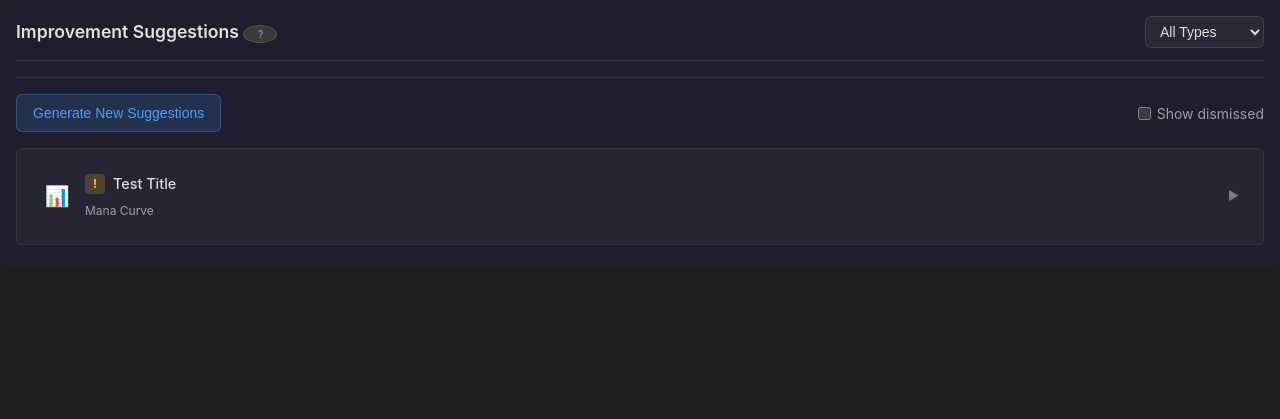
Test: ImprovementSuggestionsPanel › Expand/Collapse › should expand suggestion to show details when clicked
Check: the text "Detailed description here" is not shown
Click to expand
Click the heading "Test Title" at (145, 184), box [113,173,176,195]
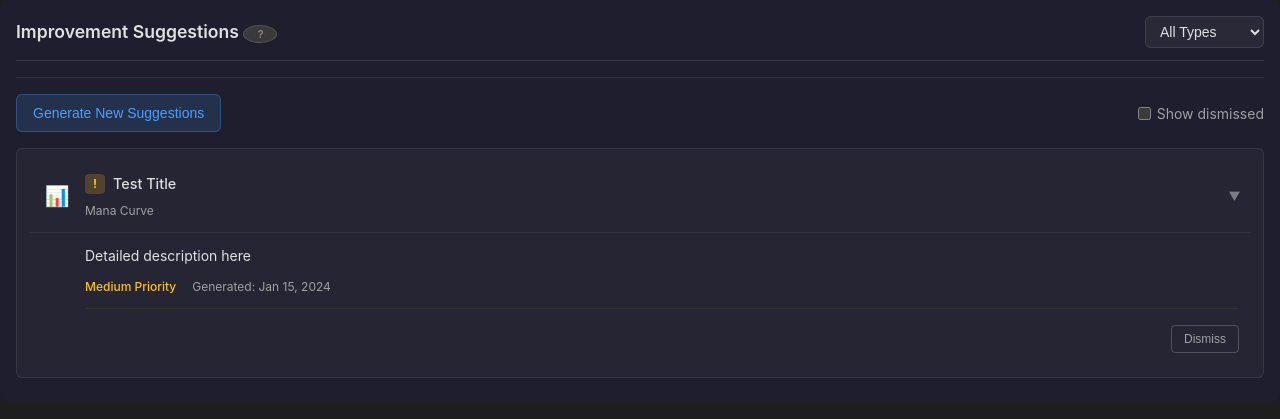
Check: the text "Detailed description here" is shown, box [85,247,251,264]
